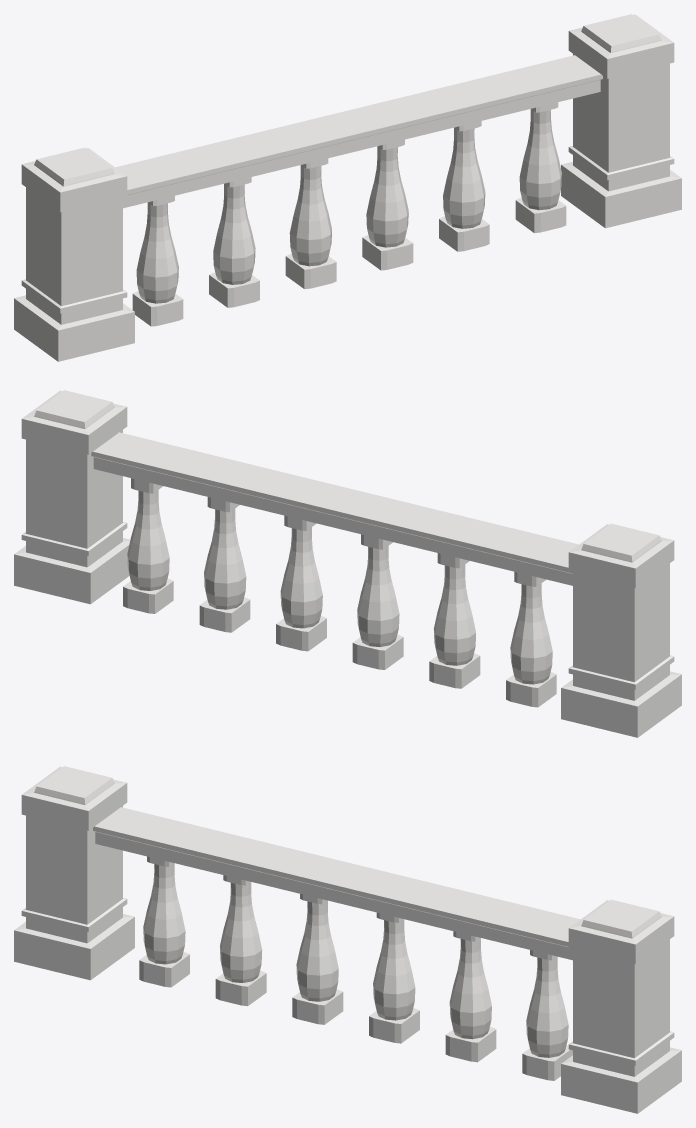
File: Fence_1.fbx
3 views of the same model, one above another, from view 1: azimuth 30°, elevation 25°; view 2: azimuth 150°, elevation 25°; view 3: azimuth 330°, elevation 25° (orthographic).
Parts seen in each view (by area): view 1: Fence_1; view 2: Fence_1; view 3: Fence_1.
Boxes of the visible parts, bbox=[...] form: Fence_1: bbox=[14, 14, 681, 361]; Fence_1: bbox=[14, 390, 681, 737]; Fence_1: bbox=[14, 766, 681, 1113].
Size of the model in its own units: 448 by 55.02 by 121.
